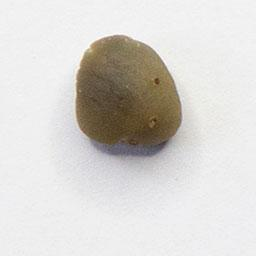peaberry: (71, 30, 185, 150)
